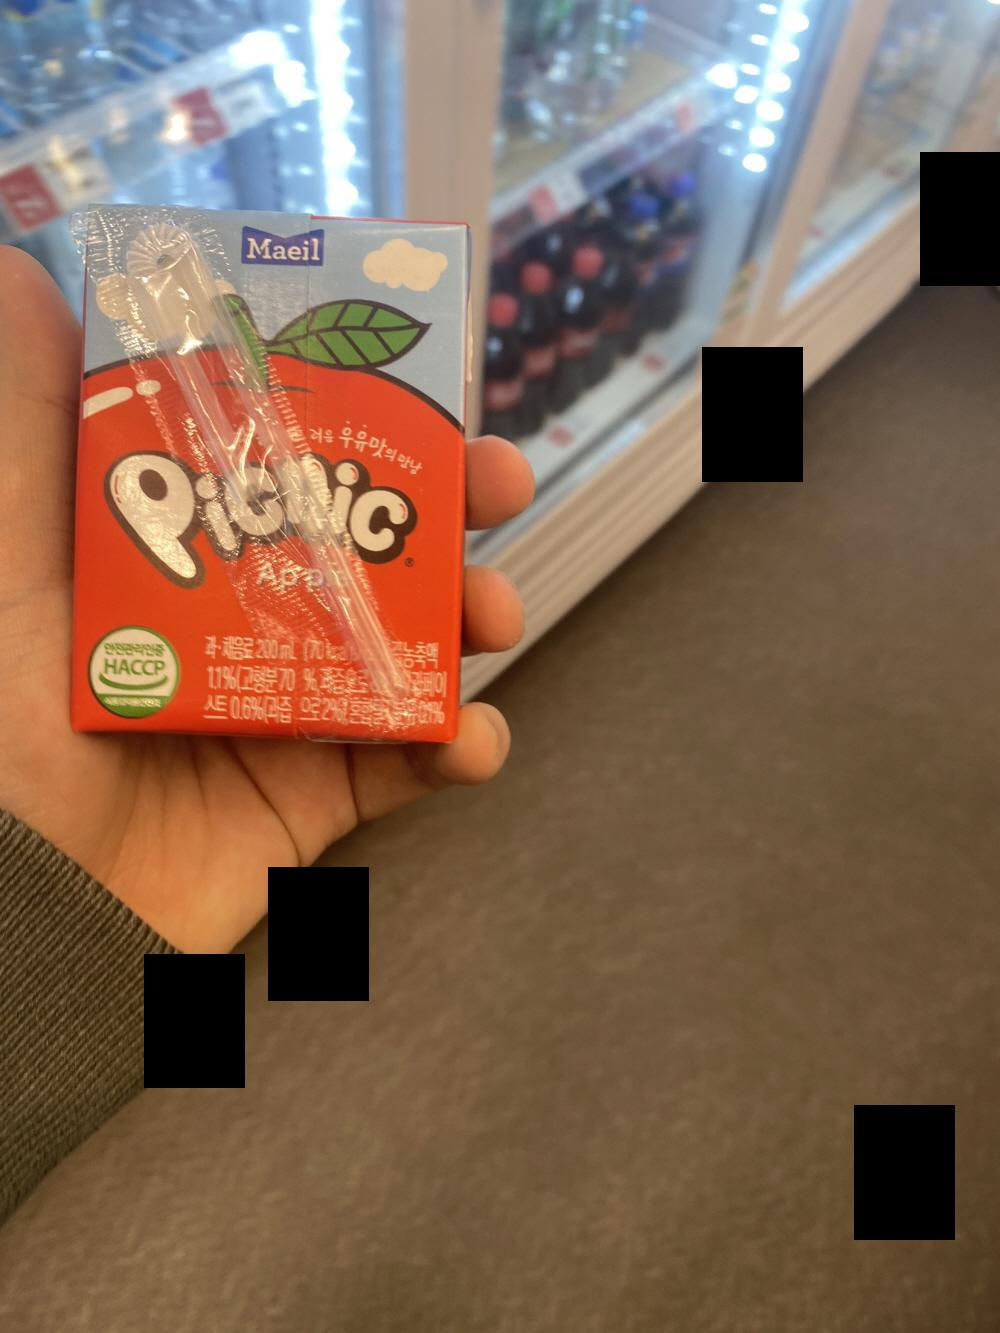picnic_apple: (68, 197, 467, 733)
